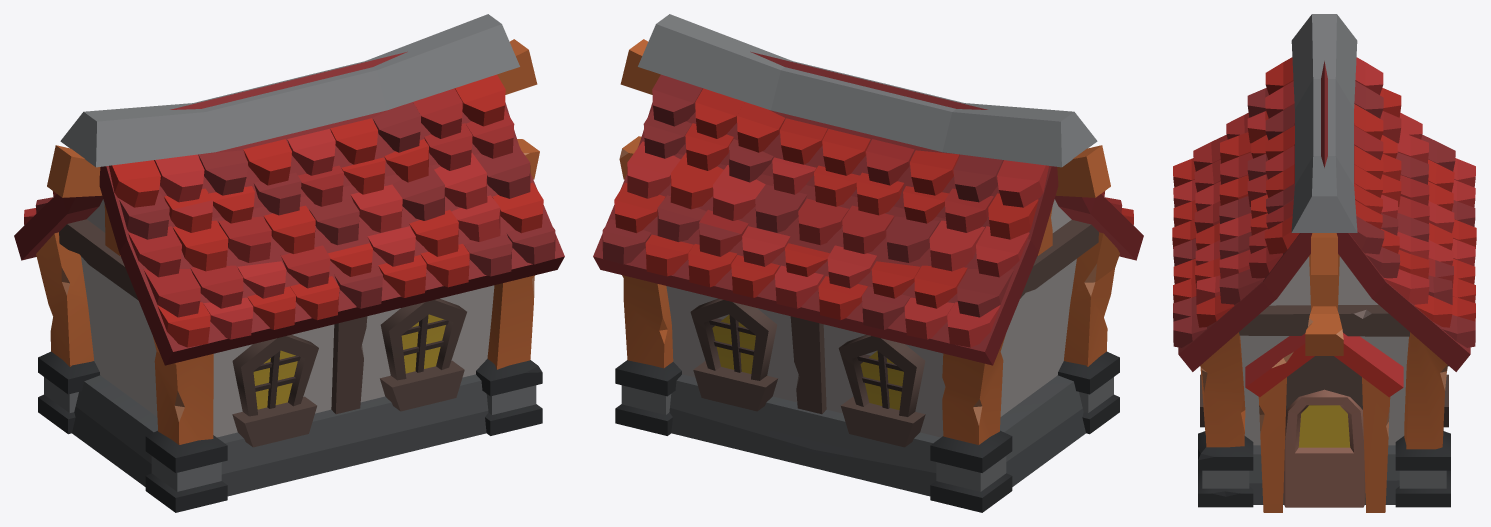
The model's file is rn_house_c.glb.
3 views of the same model, side by side, from view 1: azimuth 30°, elevation 25°; view 2: azimuth 150°, elevation 25°; view 3: azimuth 270°, elevation 25° (orthographic). The views are drawn at different scales.
Parts seen in each view (by area): view 1: rn_house_c; view 2: rn_house_c; view 3: rn_house_c.
Boxes of the visible parts, x1,y1,x2,y2 form: rn_house_c: (14,14,564,512); rn_house_c: (593,14,1143,512); rn_house_c: (1172,14,1476,512).
Size of the model in its own units: 8.1 by 5.7 by 4.89.
